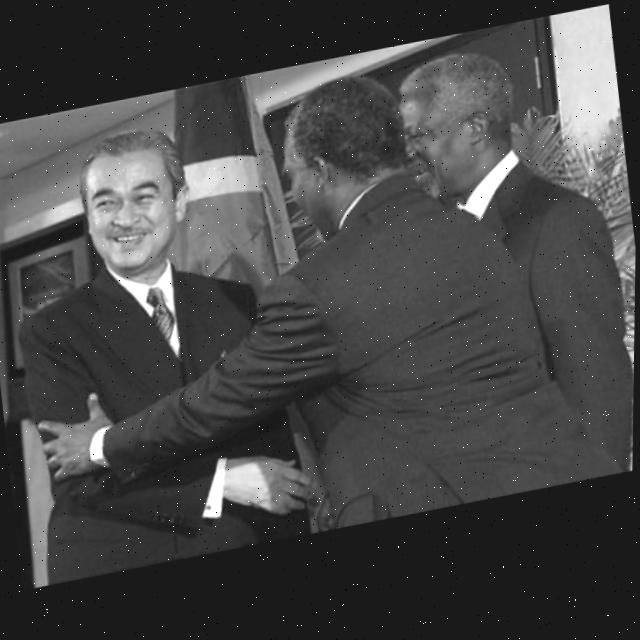face: (71, 113, 199, 285), (389, 59, 498, 207)
